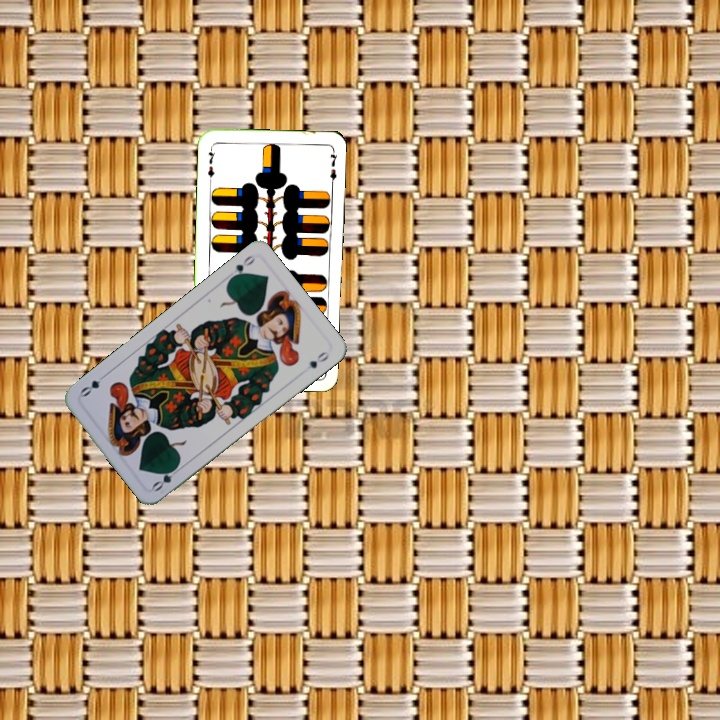E7: (204, 143, 218, 183)
GO: (148, 460, 184, 494), (225, 251, 258, 283)
